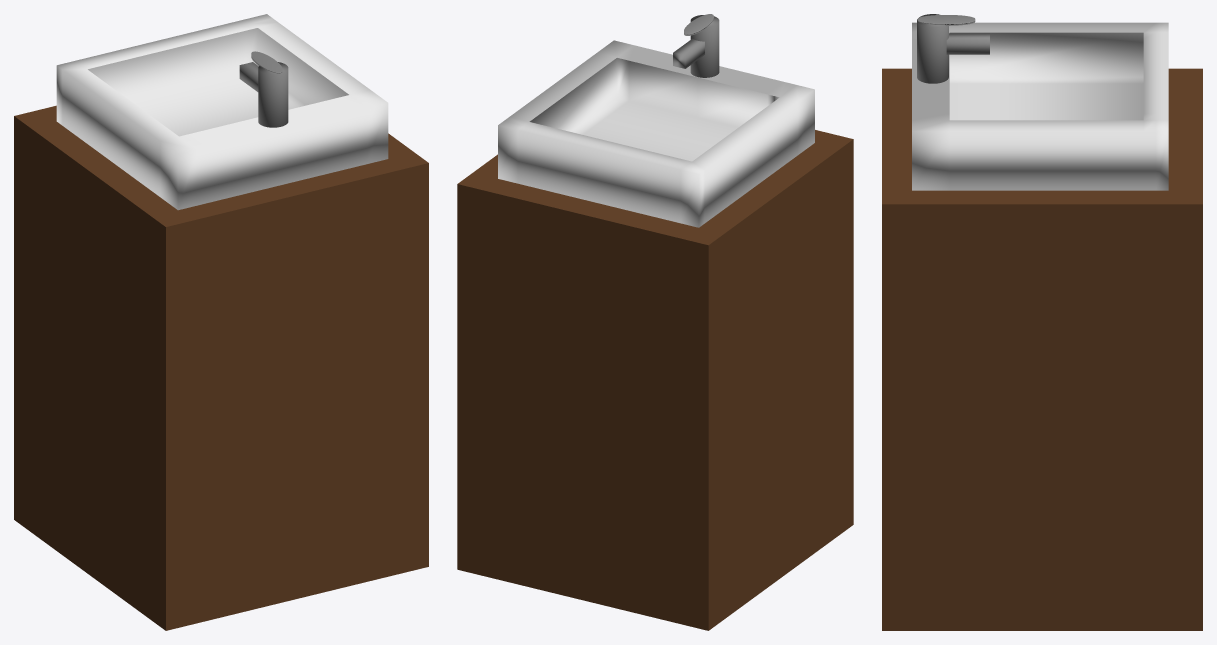
The model's file is Lavamano Universidad.fbx.
The picture shows the model from 3 angles, left to right: view 1: azimuth 30°, elevation 25°; view 2: azimuth 150°, elevation 25°; view 3: azimuth 270°, elevation 25°; orthographic projection. The views are drawn at different scales.
Visible parts, largest first — view 1: Cube.003, Cube.004, Cylinder.004; view 2: Cube.003, Cube.004, Cylinder.004, Cube.005; view 3: Cube.003, Cube.004, Cylinder.004, Cube.005, Cylinder.005.
Boxes of the visible parts, x1,y1,x2,y2 form: Cube.003: [14, 105, 428, 630]; Cube.004: [56, 14, 388, 210]; Cylinder.004: [258, 62, 288, 127]; Cube.003: [457, 130, 853, 630]; Cube.004: [498, 40, 814, 227]; Cylinder.004: [690, 15, 719, 77]; Cube.005: [673, 38, 704, 68]; Cube.003: [882, 68, 1202, 630]; Cube.004: [912, 22, 1168, 190]; Cylinder.004: [917, 14, 948, 83]; Cube.005: [946, 33, 989, 54]; Cylinder.005: [917, 15, 975, 25].
Bounding box in the file's own units: 200 × 374 × 200.
